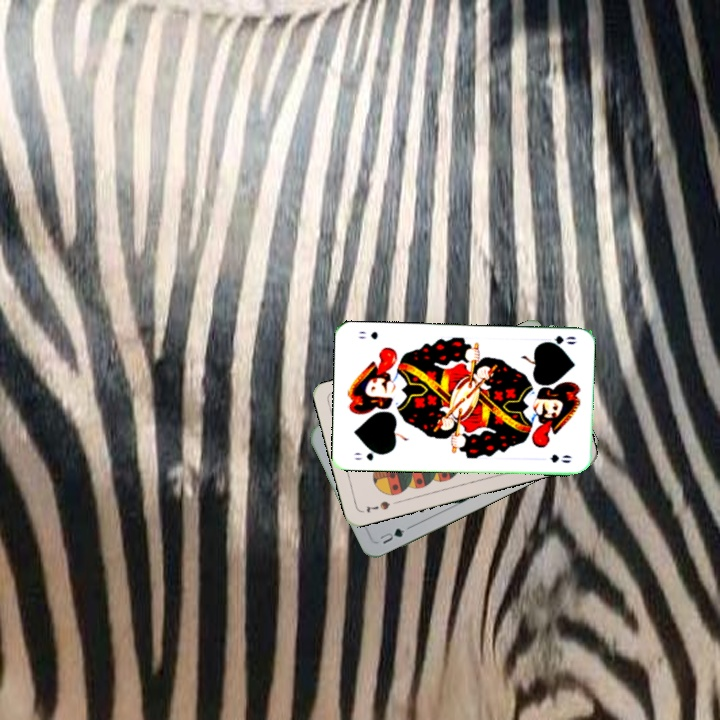GO: (538, 332, 579, 349), (350, 446, 387, 463)
GU: (376, 524, 407, 547)
S7: (362, 497, 392, 515)
